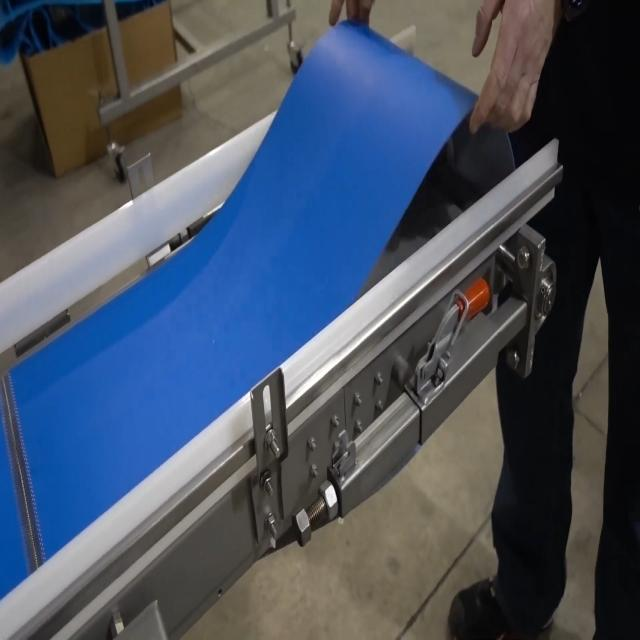Convoyeur: (0, 20, 568, 640)
